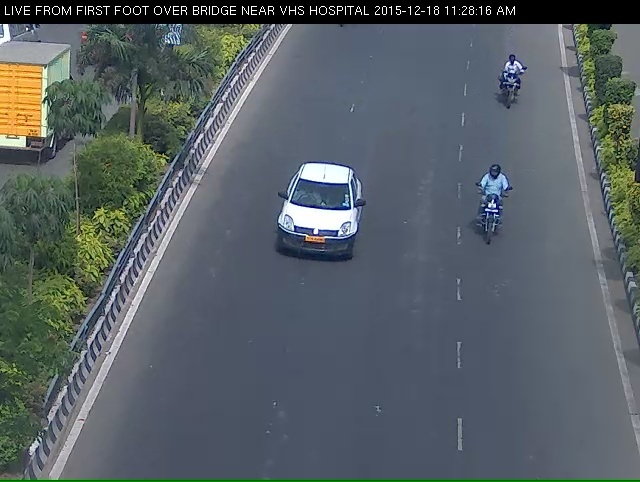Car: (264, 173, 367, 282)
Person: (467, 179, 522, 262), (496, 58, 530, 118)
